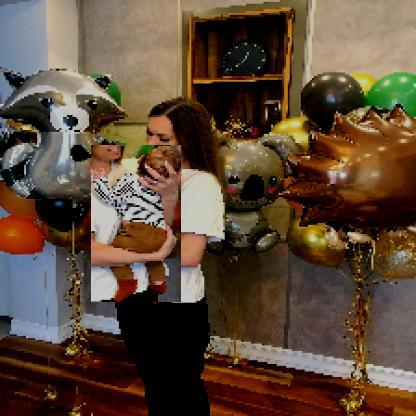child: (92, 147, 183, 305)
